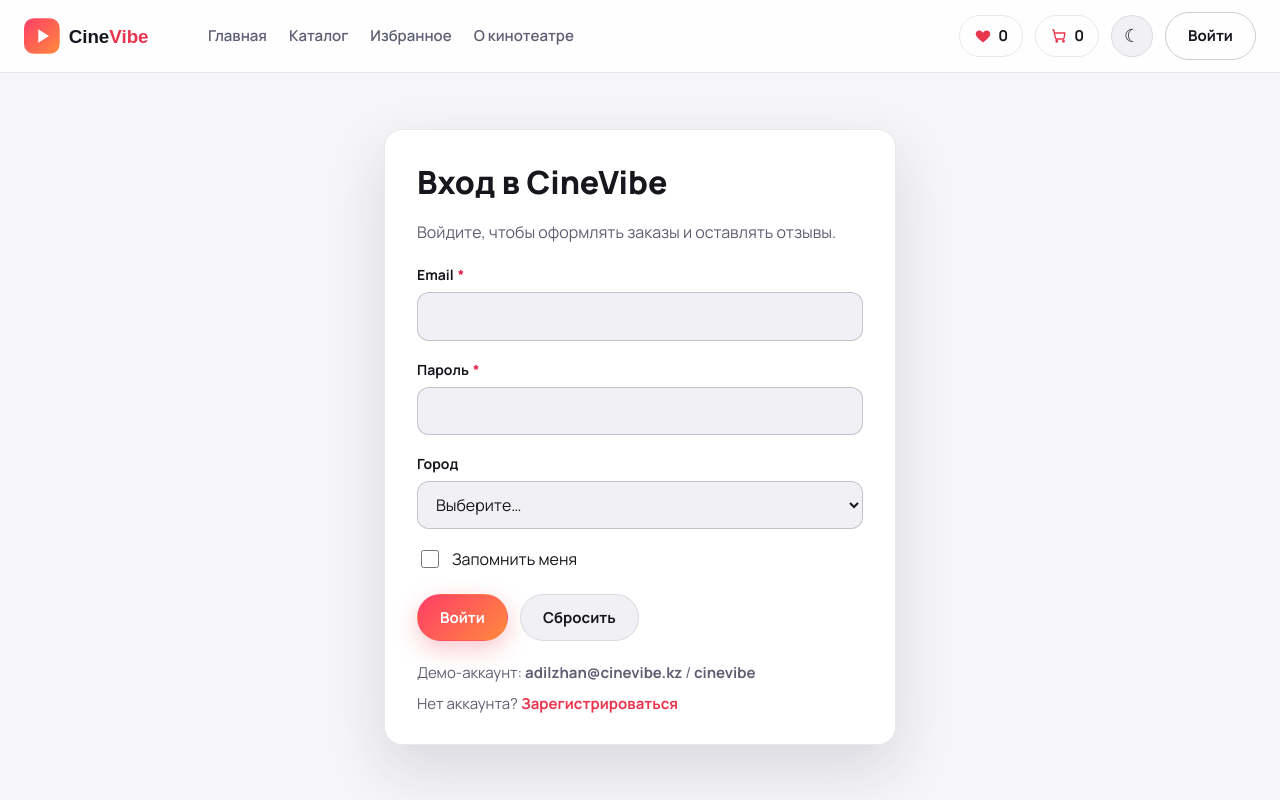
Scenario: Вход › демо-аккаунт входит и попадает в профиль
The image size is (1280, 800).
Type "adilzhan@cinevibe.kz" into the field labelled "Email*".
click(640, 316); type("adilzhan@cinevibe.kz")  # box [417,292,863,341]
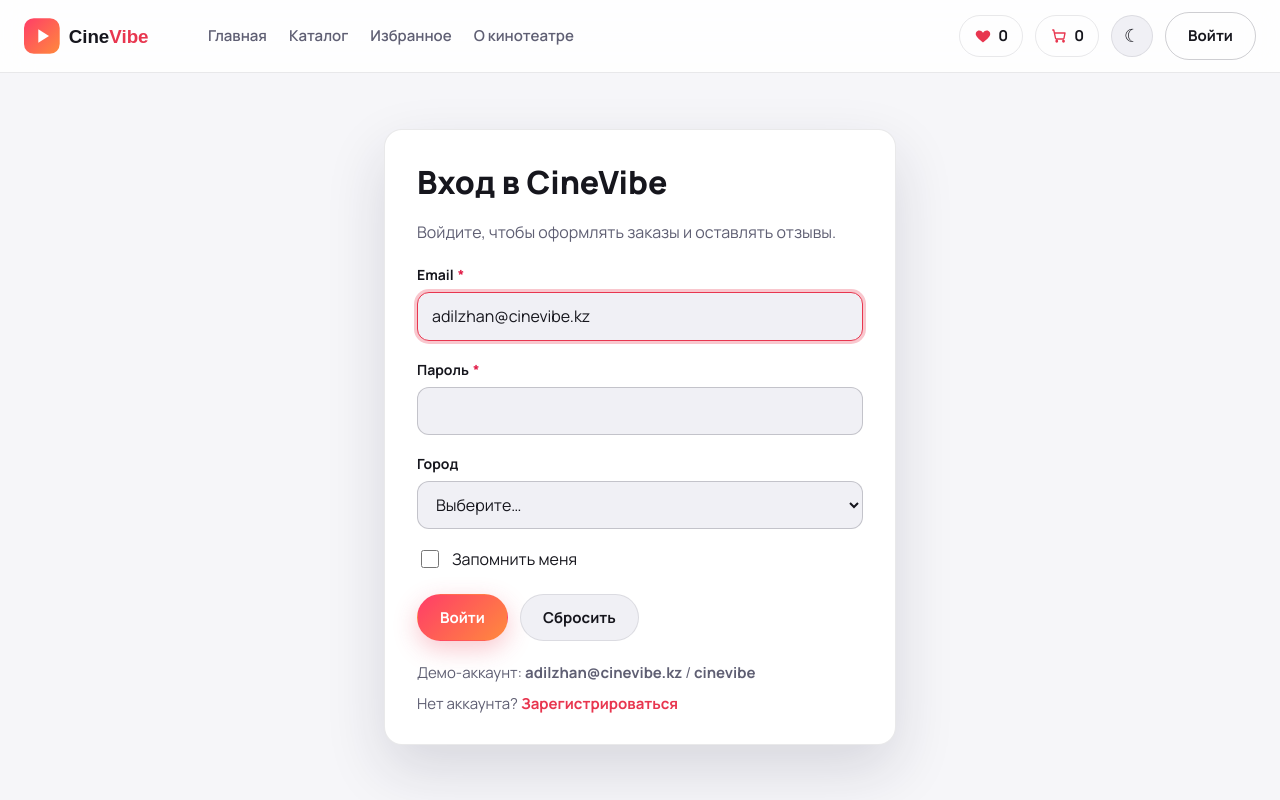
Type "cinevibe" into the password field labelled "Пароль*".
click(640, 411); type("cinevibe")  # box [417,387,863,435]
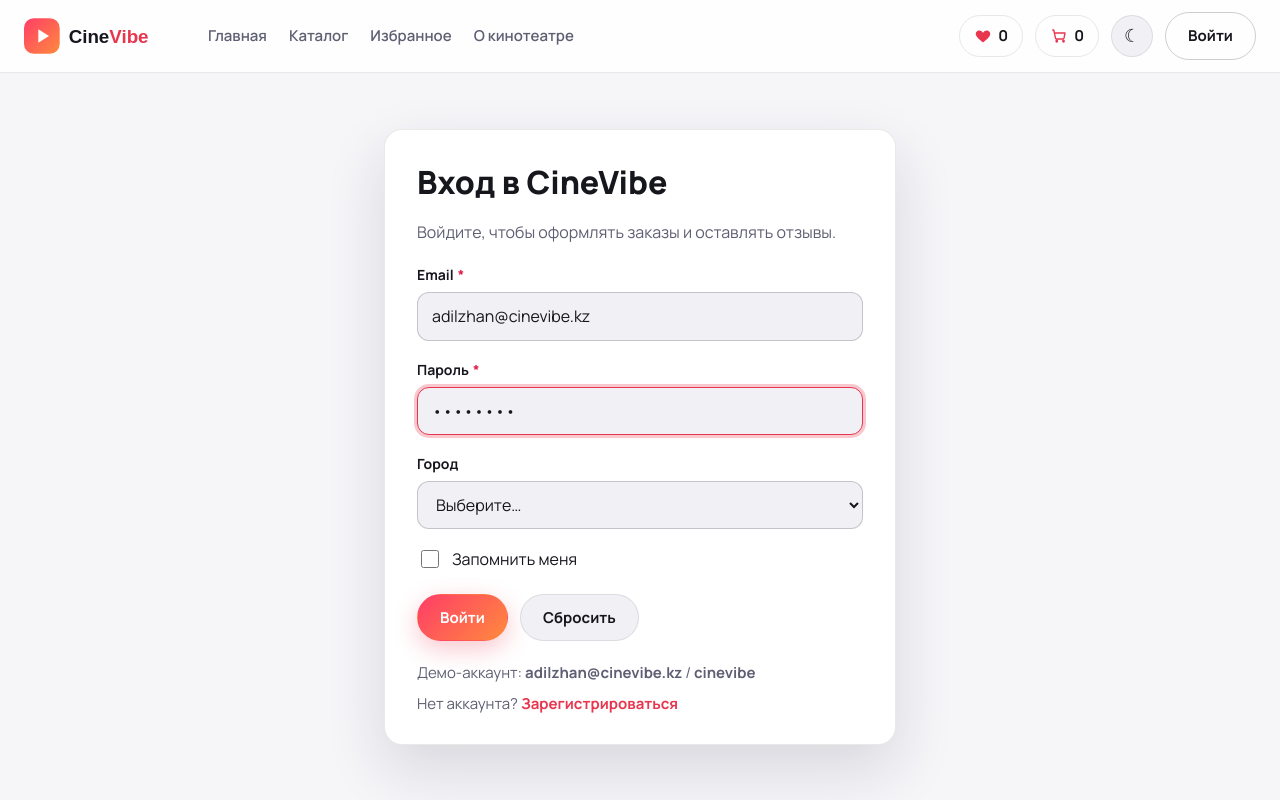
Click the button "Войти" below "Запомнить меня".
click(462, 617)  # box [417,594,508,641]
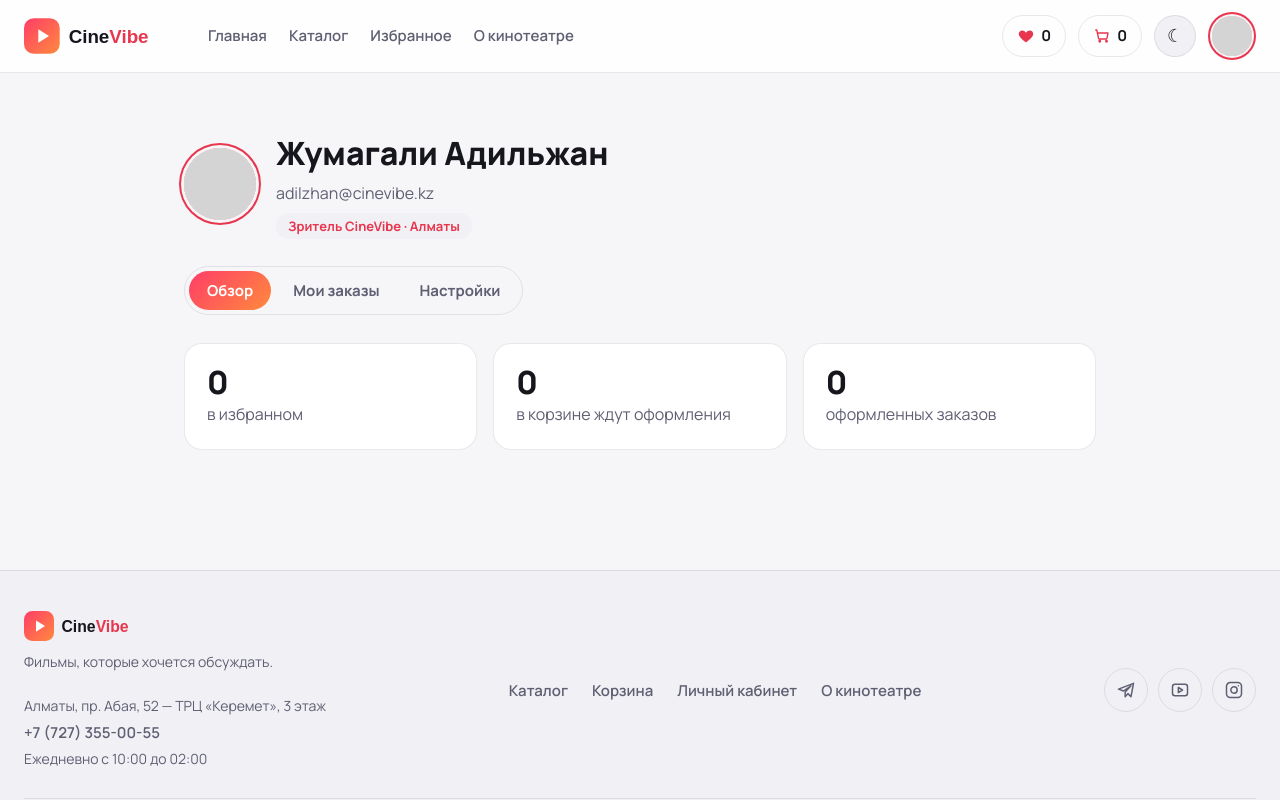
Now the heading "Жумагали Адильжан" is shown, box [276,129,608,179]
